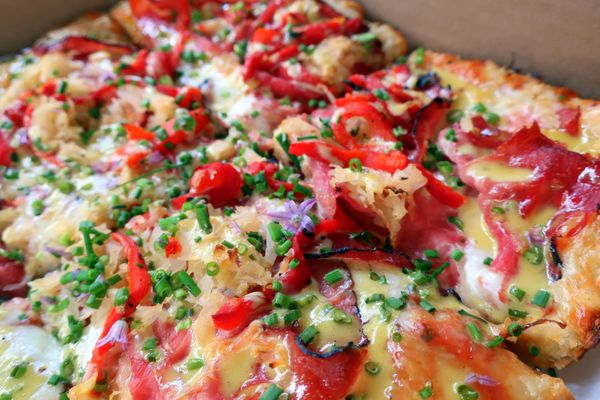sandwich: (0, 0, 599, 396)
